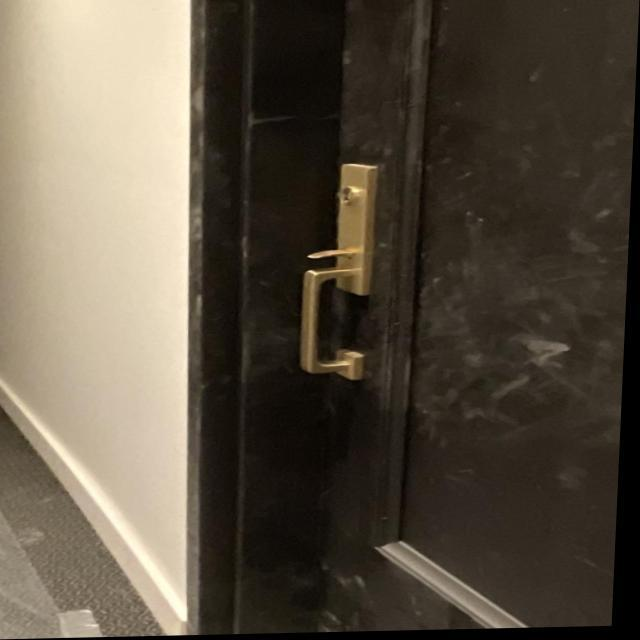door_handle: (287, 265, 393, 387)
